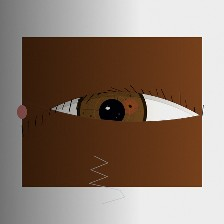foreign_body_visible: (121, 99, 139, 114)
